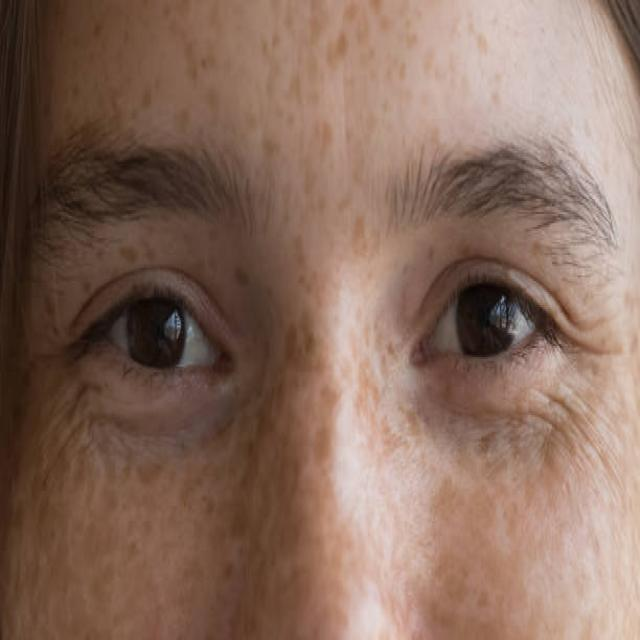Dry-Skin: (220, 18, 438, 616)
